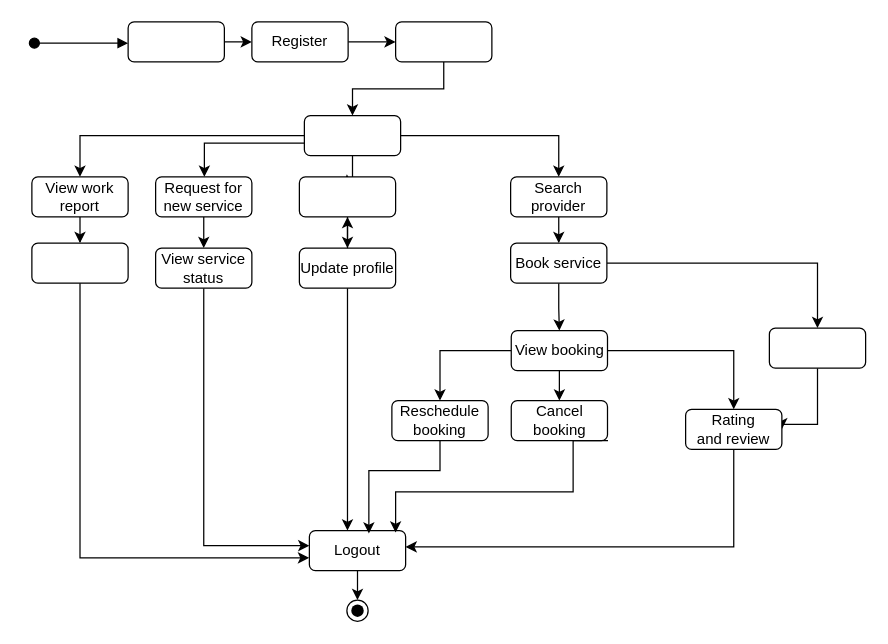
This 888x644 diagram has some shape labels left out. The shapes that lost their labels are listed below. From the top down, each one's centre as x and y in pixels, then its label:
At (x=175, y=41): "New user".
At (x=443, y=41): "Signin".
At (x=352, y=135): "Redirect to website".
At (x=347, y=196): "View profile".
At (x=79, y=262): "Download work report".
At (x=817, y=347): "Payment".
